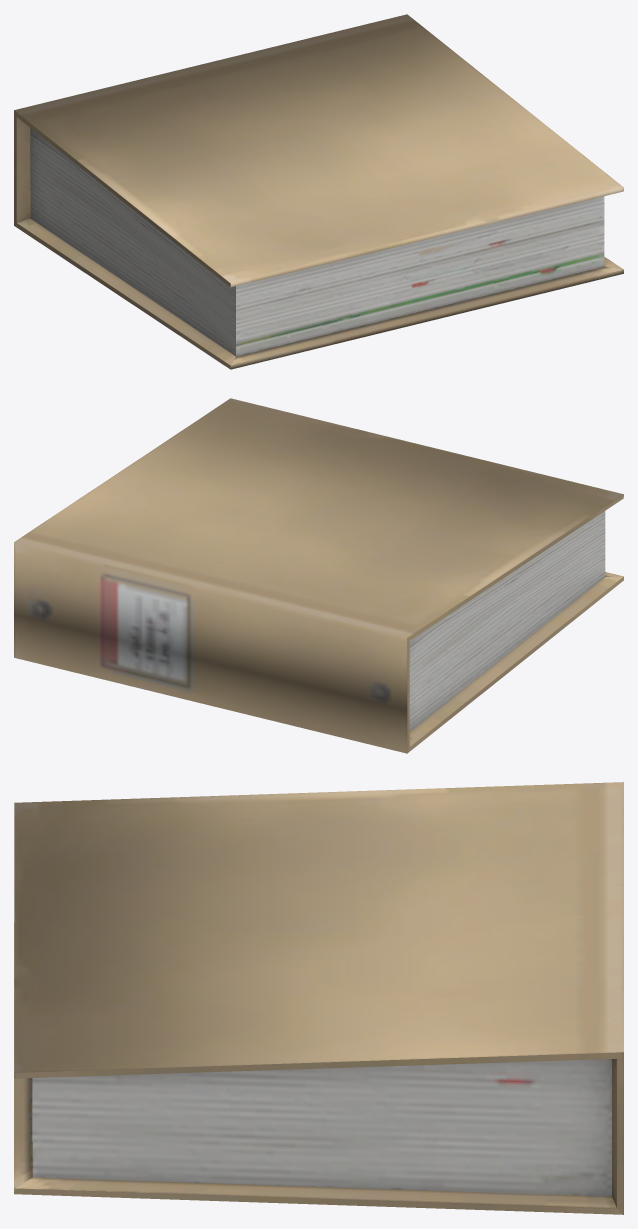
The model's file is props_spytech_binder001.glb.
The picture shows the model from 3 angles, top to bottom: view 1: azimuth 30°, elevation 25°; view 2: azimuth 150°, elevation 25°; view 3: azimuth 270°, elevation 25°; orthographic projection. The views are drawn at different scales.
Visible parts, largest first — view 1: models/props_spytech/binder001; view 2: models/props_spytech/binder001; view 3: models/props_spytech/binder001.
Part boxes in pixels (<box>): models/props_spytech/binder001: <box>14,14,623,369</box>; models/props_spytech/binder001: <box>14,398,623,753</box>; models/props_spytech/binder001: <box>14,782,623,1214</box>.
Bounding box in the file's own units: 14.04 × 3.94 × 13.4.
Materials: 1 (1 with a texture image).
